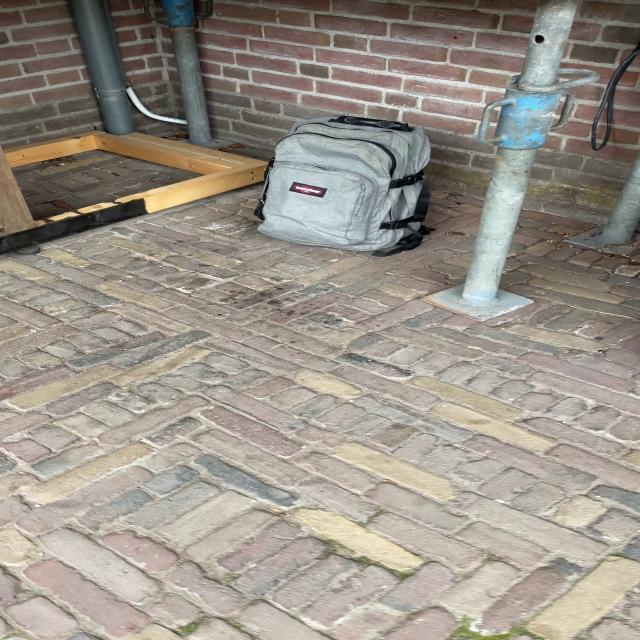backpack: (248, 108, 441, 258)
